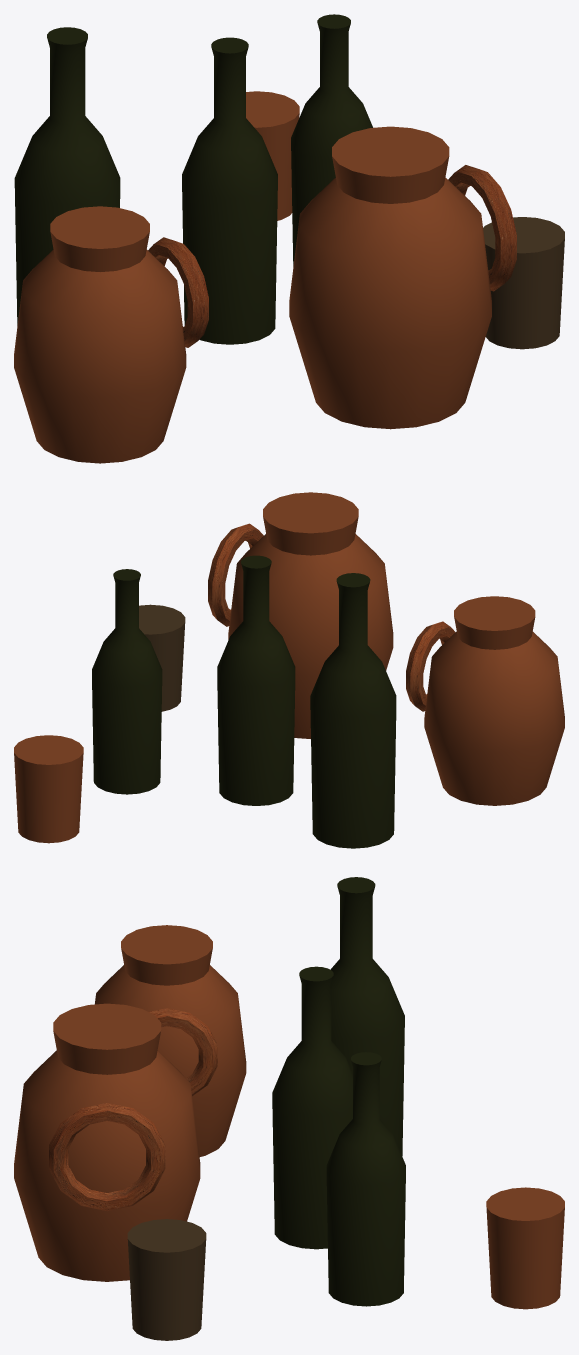
File: bottles-jugs-v01-photo.glb
3 views of the same model, one above another, from view 1: azimuth 30°, elevation 25°; view 2: azimuth 150°, elevation 25°; view 3: azimuth 270°, elevation 25° (orthographic). The views are drawn at different scales.
Parts seen in each view (by area): view 1: bottles-jugs; view 2: bottles-jugs; view 3: bottles-jugs.
Boxes of the visible parts, bbox=[...] form: bottles-jugs: bbox=[14, 14, 564, 463]; bottles-jugs: bbox=[14, 492, 564, 848]; bottles-jugs: bbox=[14, 877, 564, 1340].
Bounding box in the file's own units: 1.14 × 0.627 × 1.11.
Materials: 3 (3 with a texture image).
